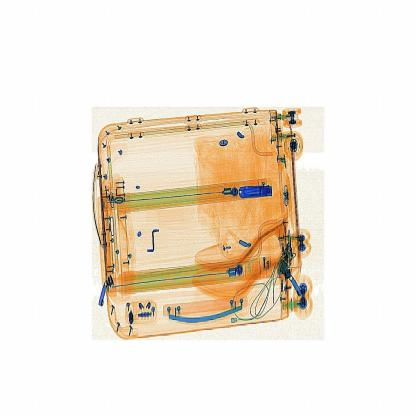knife: (233, 180, 277, 207)
